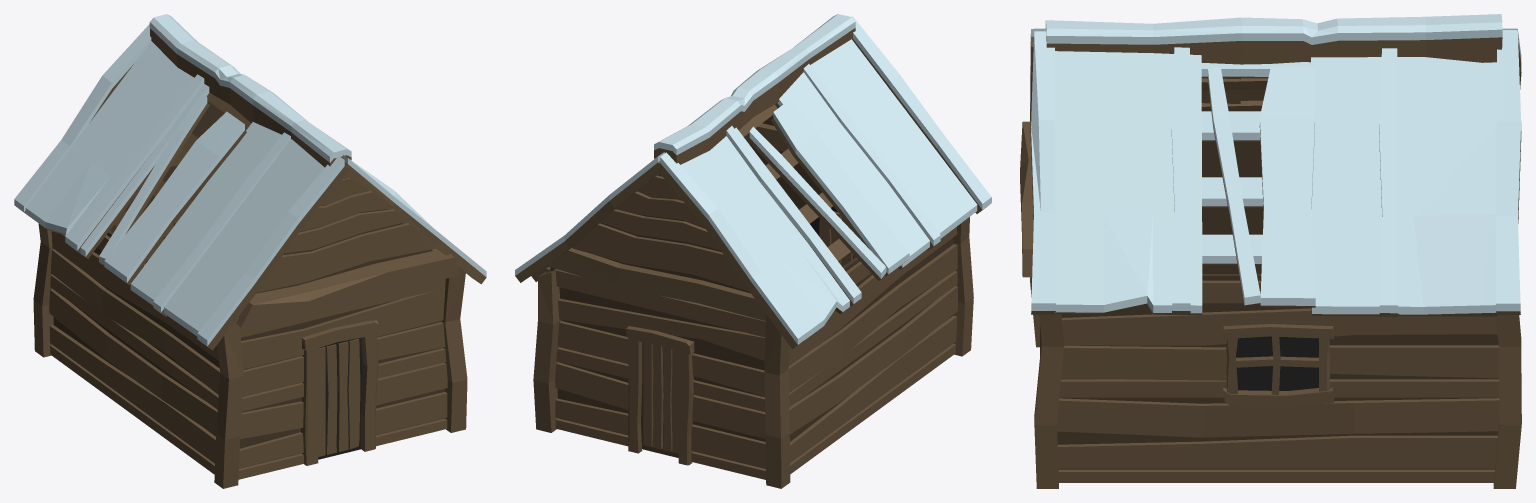
The model's file is SM_Bld_Hut_01_Snow.gltf.
3 renders of one model, left to right at view 1: azimuth 30°, elevation 25°; view 2: azimuth 150°, elevation 25°; view 3: azimuth 270°, elevation 25°, orthographic. The views are drawn at different scales.
Parts seen in each view (by area): view 1: SM_Bld_Hut_01_Snow; view 2: SM_Bld_Hut_01_Snow; view 3: SM_Bld_Hut_01_Snow.
Boxes of the visible parts, box(x1,y1,x2,y2) form: SM_Bld_Hut_01_Snow: box(14, 14, 486, 488); SM_Bld_Hut_01_Snow: box(515, 14, 991, 488); SM_Bld_Hut_01_Snow: box(1020, 14, 1521, 488).
Bounding box in the file's own units: 5.21 × 5.51 × 6.34.
Materials: 1 (1 with a texture image).
